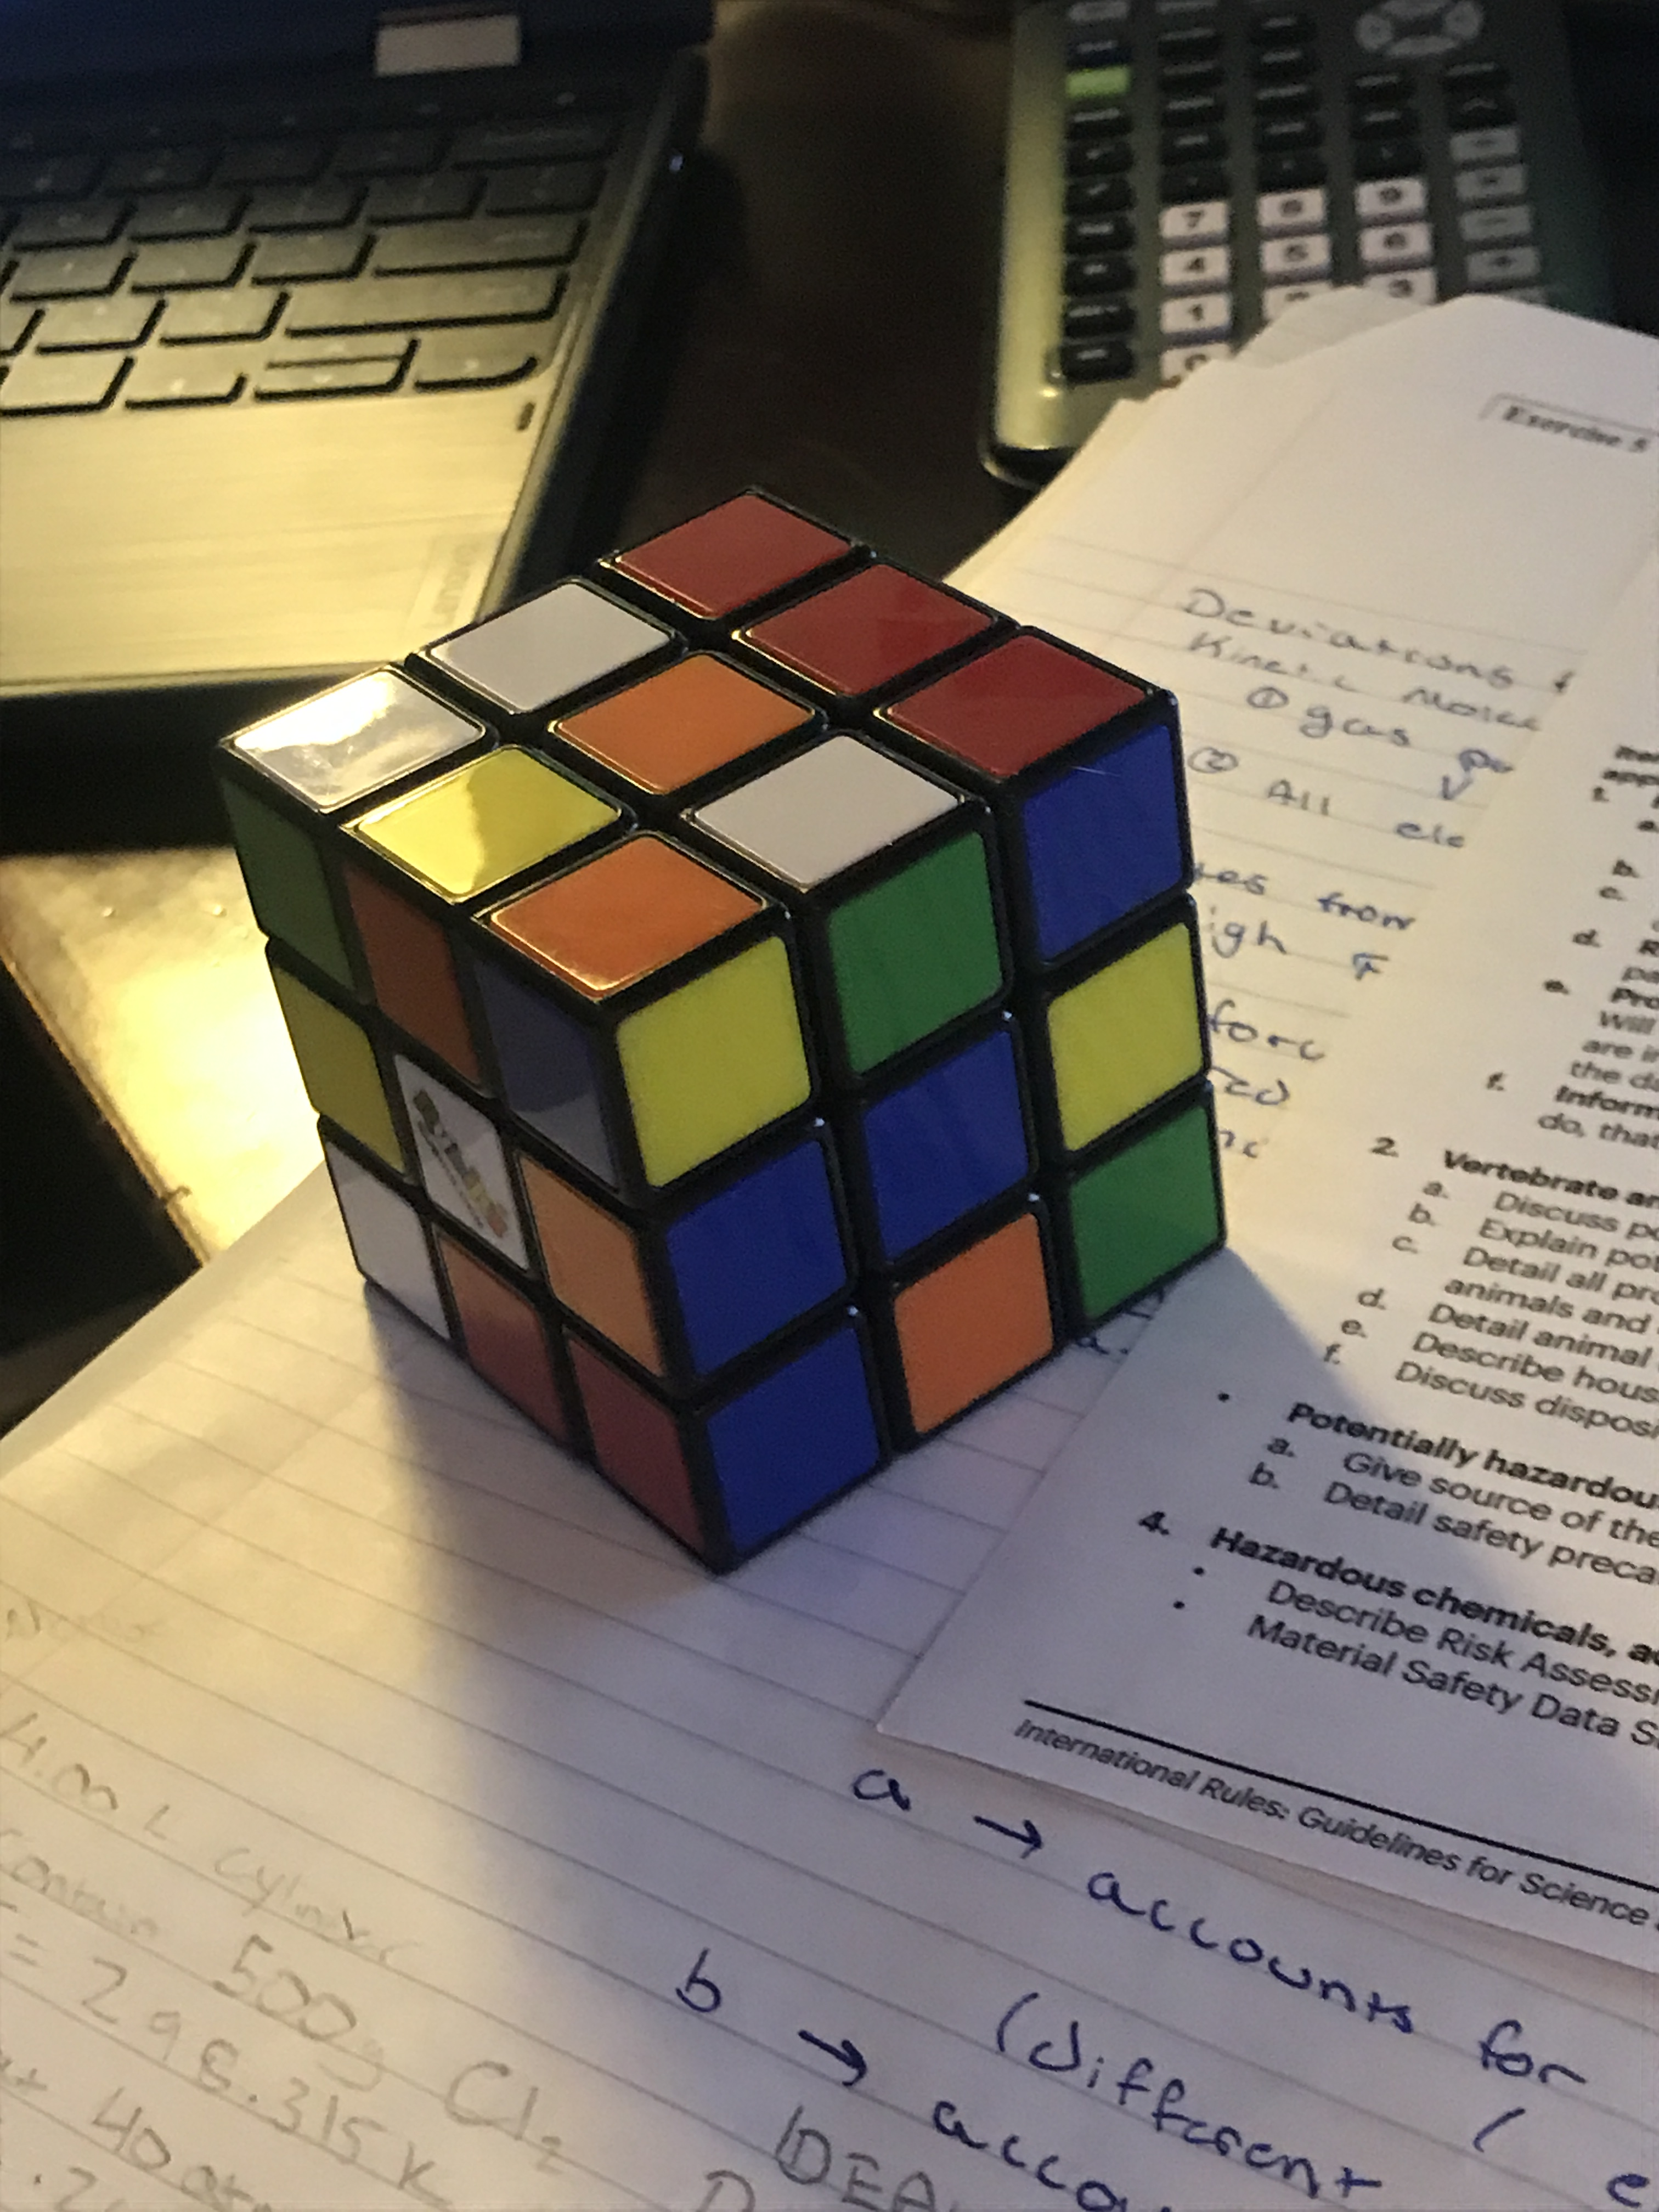rubiks: (209, 495, 1230, 1576)
